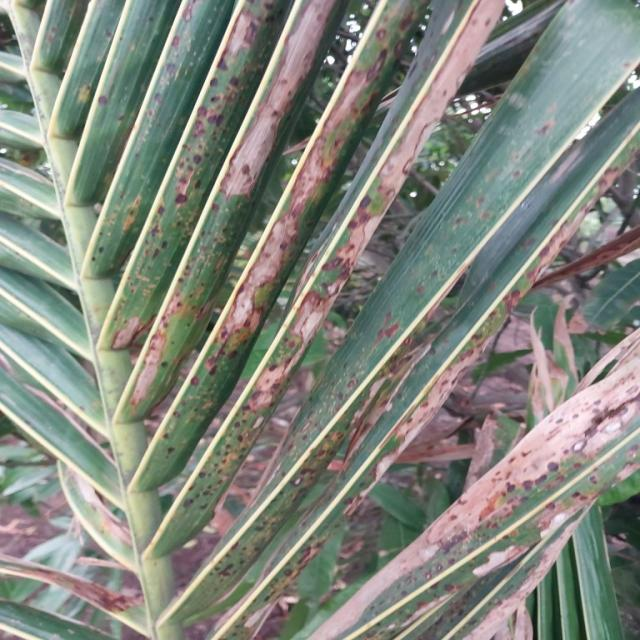gray leaf spot: (108, 0, 502, 421), (299, 120, 640, 548), (317, 337, 635, 640)
